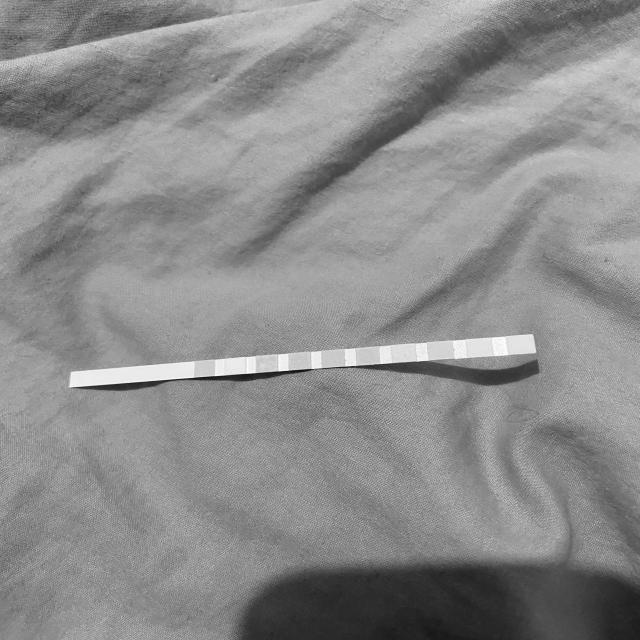Bilirubin: (228, 359, 245, 374)
Blood: (325, 351, 343, 366)
Glucose: (196, 361, 213, 376)
Ketone: (258, 356, 274, 371)
Leukocytes: (510, 337, 532, 352)
Nitrite: (468, 340, 492, 355)
Protein: (392, 346, 414, 362)
SpGravity: (292, 354, 308, 368)
Urobilinogen: (429, 342, 451, 358)
background: (0, 0, 640, 640)
pH: (357, 349, 378, 364)
strip: (70, 335, 536, 388)
